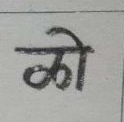o_matra: (67, 27, 90, 89)
